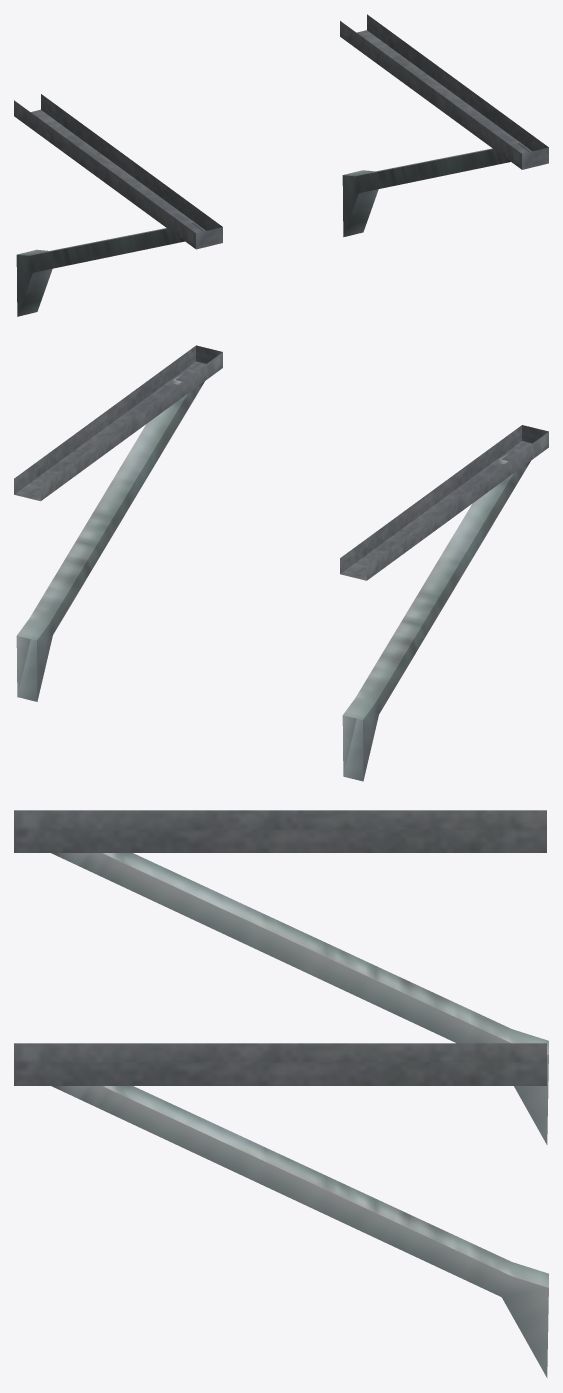
Rendered from ACStand.fbx.
3 views of the same model, one above another, from view 1: azimuth 30°, elevation 25°; view 2: azimuth 150°, elevation 25°; view 3: azimuth 270°, elevation 25° (orthographic). The views are drawn at different scales.
Parts seen in each view (by area): view 1: ACStand; view 2: ACStand; view 3: ACStand.
Boxes of the visible parts, bbox=[...] form: ACStand: bbox=[14, 14, 548, 316]; ACStand: bbox=[14, 345, 548, 781]; ACStand: bbox=[14, 810, 548, 1377].
Bounding box in the file's own units: 81.28 × 47.89 × 72.92.
Materials: 1 (1 with a texture image).
